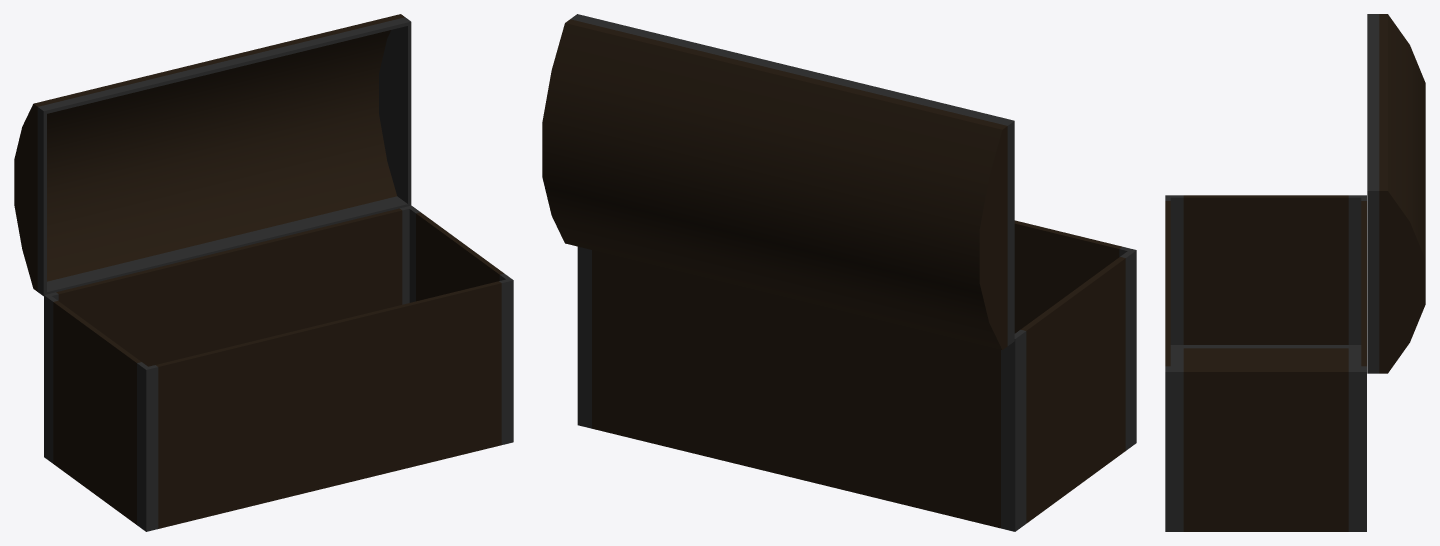
The model's file is SD2wr_chest_drf.fbx.
3 views of the same model, side by side, from view 1: azimuth 30°, elevation 25°; view 2: azimuth 150°, elevation 25°; view 3: azimuth 270°, elevation 25° (orthographic). The views are drawn at different scales.
Parts seen in each view (by area): view 1: SD2wr_chest_drf; view 2: SD2wr_chest_drf; view 3: SD2wr_chest_drf.
Part boxes in pixels (x1,y1,x2,y2): SD2wr_chest_drf: (14, 14, 513, 531); SD2wr_chest_drf: (542, 14, 1136, 531); SD2wr_chest_drf: (1165, 14, 1425, 531).
Size of the model in its own units: 126 by 78.19 by 113.
